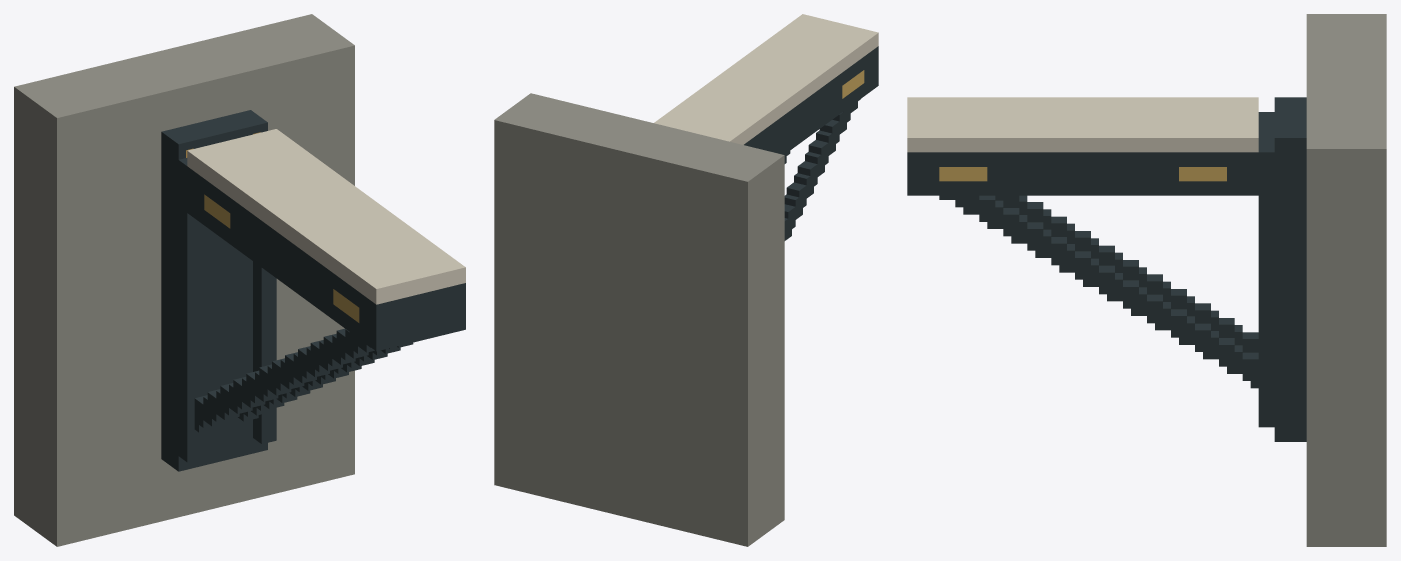
3 renders of one model, left to right at view 1: azimuth 30°, elevation 25°; view 2: azimuth 150°, elevation 25°; view 3: azimuth 270°, elevation 25°, orthographic. The views are drawn at different scales.
Visible parts, largest first — view 1: 住宅梁的明确试验墙与下托，非原住宅（辅助）, 住宅悬挑通廊承力梁母版; view 2: 住宅梁的明确试验墙与下托，非原住宅（辅助）, 住宅悬挑通廊承力梁母版; view 3: 住宅悬挑通廊承力梁母版, 住宅梁的明确试验墙与下托，非原住宅（辅助）.
Part boxes in pixels (x1=…): 住宅梁的明确试验墙与下托，非原住宅（辅助）: x1=14, y1=14, x2=354, y2=546; 住宅悬挑通廊承力梁母版: x1=161, y1=110, x2=465, y2=462; 住宅梁的明确试验墙与下托，非原住宅（辅助）: x1=494, y1=93, x2=784, y2=546; 住宅悬挑通廊承力梁母版: x1=654, y1=14, x2=878, y2=240; 住宅悬挑通廊承力梁母版: x1=907, y1=97, x2=1306, y2=427; 住宅梁的明确试验墙与下托，非原住宅（辅助）: x1=1274, y1=14, x2=1386, y2=546.
Size of the model in its own units: 4 by 5.5 by 6.
Materials: 5 (5 with a texture image).
